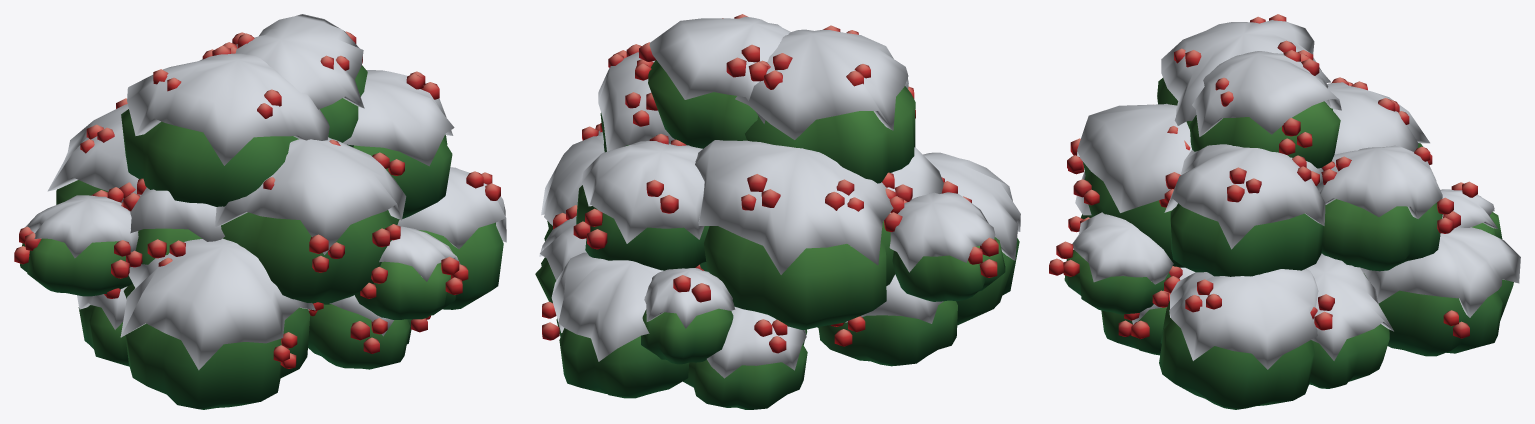
File: berry-bush.glb
3 views of the same model, side by side, from view 1: azimuth 30°, elevation 25°; view 2: azimuth 150°, elevation 25°; view 3: azimuth 270°, elevation 25° (orthographic). The views are drawn at different scales.
Parts seen in each view (by area): view 1: TownToonBerryBush; view 2: TownToonBerryBush; view 3: TownToonBerryBush.
Boxes of the visible parts, x1,y1,x2,y2 form: TownToonBerryBush: (14, 14, 506, 409); TownToonBerryBush: (535, 14, 1020, 409); TownToonBerryBush: (1049, 14, 1520, 409).
Bounding box in the file's own units: 7.54 × 4.6 × 7.
